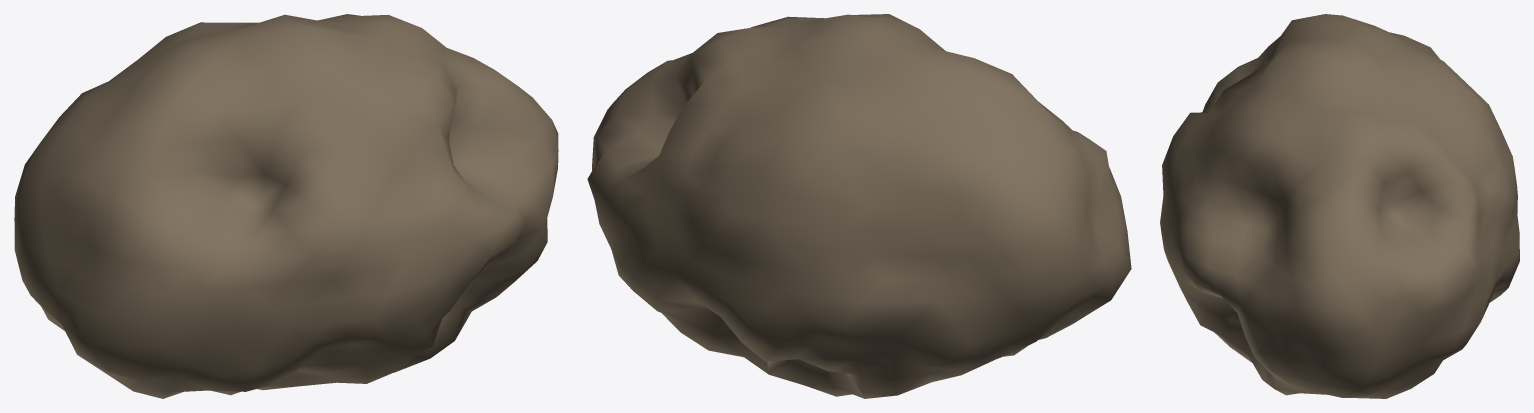
File: asteroid_med_18.glb
3 views of the same model, side by side, from view 1: azimuth 30°, elevation 25°; view 2: azimuth 150°, elevation 25°; view 3: azimuth 270°, elevation 25° (orthographic). The views are drawn at different scales.
Parts seen in each view (by area): view 1: asteroid_med_18; view 2: asteroid_med_18; view 3: asteroid_med_18.
Part boxes in pixels (x1=…): asteroid_med_18: x1=14, y1=14, x2=558, y2=398; asteroid_med_18: x1=587, y1=14, x2=1131, y2=398; asteroid_med_18: x1=1160, y1=14, x2=1519, y2=398.
Size of the model in its own units: 2.48 by 1.63 by 1.71.
